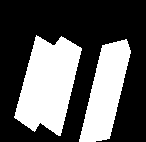parkingspot: (79, 39, 130, 142), (14, 35, 61, 131), (38, 36, 81, 135)
